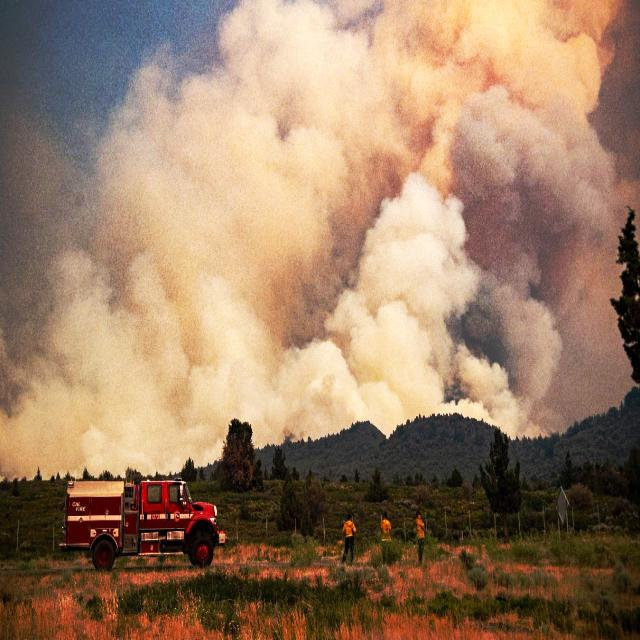asap: (1, 11, 631, 426), (1, 403, 217, 476)
